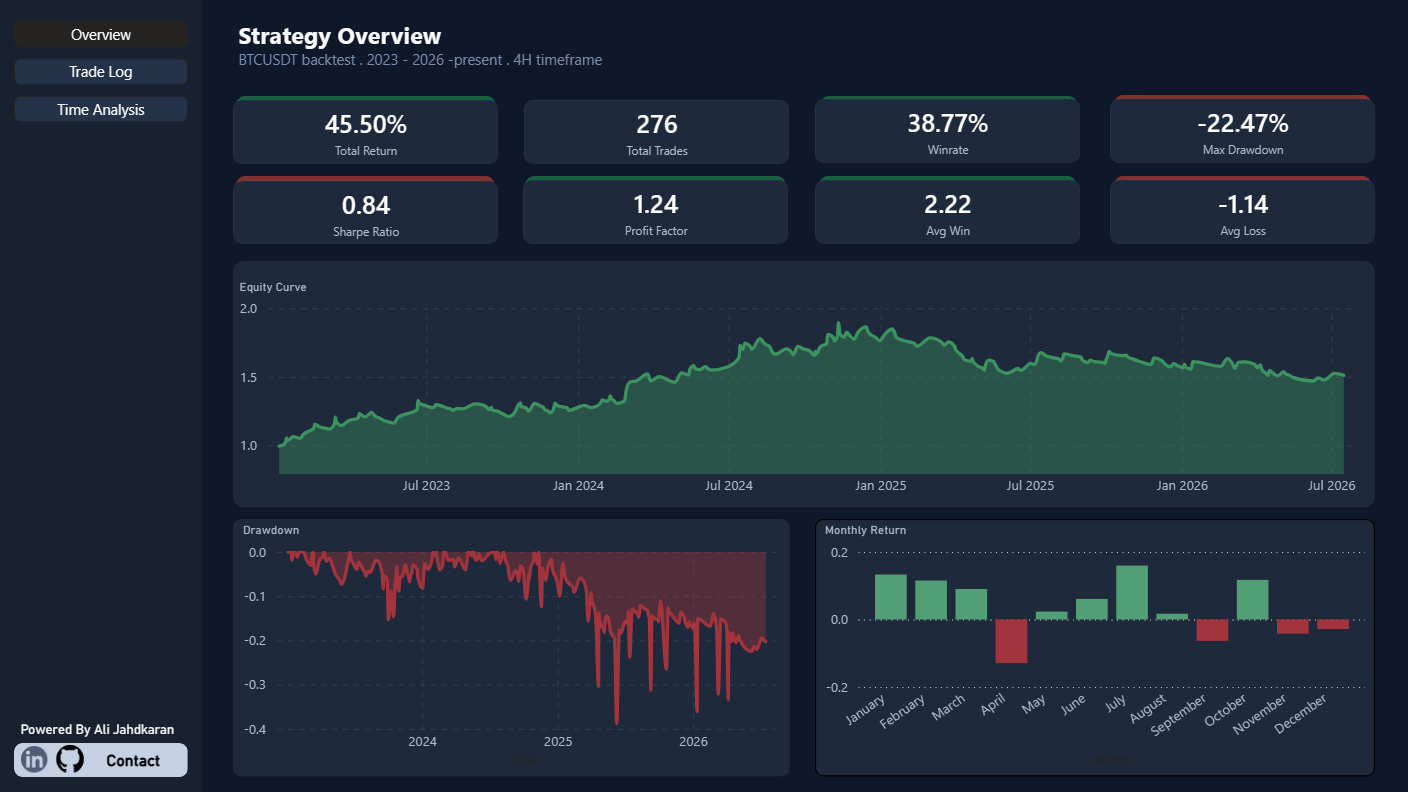

Layout of this report page (visuals, bound fields, positions):
{"tool":"powerbi","page":{"name":"Overview","canvas":[1280,720],"ordinal":0},"visuals":[{"type":"shape","box":[0,0,183.8,719.8],"z":0},{"type":"pageNavigator","box":[12.7,19.1,158.2,92.7],"z":1000},{"type":"textbox","box":[211.9,11.7,365,63],"z":2000},{"type":"cardVisual","title":"Total Profit","fields":{"Data":["summary-kpis.NewPercent"]},"box":[214.5,87.1,239.5,48.9],"z":3000},{"type":"cardVisual","title":"Total Profit","fields":{"Data":["summary-kpis.WinratePercent"]},"box":[745.4,87.2,237.5,49.6],"z":4000},{"type":"cardVisual","title":"Total Profit","fields":{"Data":["summary-kpis.NewPercent"]},"box":[212,90.6,241.7,58.3],"z":5000},{"type":"cardVisual","title":"Total Profit","fields":{"Data":["summary-kpis.WinratePercent"]},"box":[1012.3,86.4,237.8,49.4],"z":6000},{"type":"cardVisual","title":"Total Profit","fields":{"Data":["summary-kpis.WinratePercent"]},"box":[741.3,90.3,241.6,58.9],"z":7000},{"type":"cardVisual","title":"Total Profit","fields":{"Data":["Sum(summary-kpis.total_trades)"]},"box":[476,90.5,241.5,58.5],"z":8000},{"type":"cardVisual","title":"Total Profit","fields":{"Data":["Sum(summary-kpis.sharpe_ratio)"]},"box":[215,160.3,238.9,48.9],"z":9000},{"type":"cardVisual","title":"Total Profit","fields":{"Data":["summary-kpis.DrawDownPercent"]},"box":[1008.8,90.3,241.2,58.8],"z":10000},{"type":"cardVisual","title":"Total Profit","fields":{"Data":["Sum(summary-kpis.profit_factor)"]},"box":[477.6,160.3,240,47.9],"z":11000},{"type":"cardVisual","title":"Total Profit","fields":{"Data":["Sum(summary-kpis.sharpe_ratio)"]},"box":[212.1,164.3,241.5,57.7],"z":12000},{"type":"cardVisual","title":"Total Profit","fields":{"Data":["Sum(summary-kpis.avg_win_pct)"]},"box":[745,160.3,237.9,48.9],"z":13000},{"type":"cardVisual","title":"Total Profit","fields":{"Data":["Sum(summary-kpis.profit_factor)"]},"box":[475.8,163.9,241.8,58.2],"z":14000},{"type":"cardVisual","title":"Total Profit","fields":{"Data":["Sum(summary-kpis.avg_loss_pct)"]},"box":[1012.3,160.3,237.6,48.8],"z":15000},{"type":"cardVisual","title":"Total Profit","fields":{"Data":["Sum(summary-kpis.avg_win_pct)"]},"box":[741.1,163.9,241.8,58.2],"z":16000},{"type":"cardVisual","title":"Total Profit","fields":{"Data":["Sum(summary-kpis.avg_loss_pct)"]},"box":[1008.8,163.9,241.2,58.2],"z":17000},{"type":"areaChart","title":"Equity Curve","fields":{"Y":["Max(backtested.cumulative_equity)"],"Category":["backtested.exit_time.Variation.Date Hierarchy.Year","backtested.exit_time.Variation.Date Hierarchy.Quarter","backtested.exit_time.Variation.Date Hierarchy.Month","backtested.exit_time.Variation.Date Hierarchy.Day"]},"box":[212.2,237.6,1037.9,223.6],"z":18000},{"type":"areaChart","title":"Drawdown","fields":{"Y":["Sum(backtested.drawdown_pct)"],"Category":["backtested.exit_time.Variation.Date Hierarchy.Year","backtested.exit_time.Variation.Date Hierarchy.Quarter","backtested.exit_time.Variation.Date Hierarchy.Month","backtested.exit_time.Variation.Date Hierarchy.Day"]},"box":[211.6,472.2,506.2,233.8],"z":19000},{"type":"clusteredColumnChart","title":"Monthly Return","fields":{"Y":["Sum(backtested.pnl_pct)"],"Category":["backtested.exit_time.Variation.Date Hierarchy.Month","backtested.exit_time.Variation.Date Hierarchy.Day"]},"box":[741,472.2,509.4,233.8],"z":20000},{"type":"shape","box":[12.9,675.2,158.1,31],"z":21000},{"type":"image","box":[19.5,677.6,23.8,26.2],"z":22000},{"type":"image","box":[48.6,677.6,30.5,24.8],"z":23000},{"type":"textbox","box":[91.9,676.9,65.6,30.6],"z":24000},{"type":"textbox","box":[13.3,648.3,163.3,26.7],"z":25000}]}

Visuals, with their boxes in screenshot pixels (x1, y1, x2, y2), scaled from the page's 1280x720 canvas onto the 1408x792 screenshot:
shape: locate(0, 0, 202, 791)
pageNavigator: locate(14, 21, 188, 123)
textbox: locate(233, 13, 635, 82)
"Total Profit" cardVisual: locate(236, 96, 499, 150)
"Total Profit" cardVisual: locate(820, 96, 1081, 150)
"Total Profit" cardVisual: locate(233, 100, 499, 164)
"Total Profit" cardVisual: locate(1114, 95, 1375, 149)
"Total Profit" cardVisual: locate(815, 99, 1081, 164)
"Total Profit" cardVisual: locate(524, 100, 789, 164)
"Total Profit" cardVisual: locate(237, 176, 499, 230)
"Total Profit" cardVisual: locate(1110, 99, 1375, 164)
"Total Profit" cardVisual: locate(525, 176, 789, 229)
"Total Profit" cardVisual: locate(233, 181, 499, 244)
"Total Profit" cardVisual: locate(820, 176, 1081, 230)
"Total Profit" cardVisual: locate(523, 180, 789, 244)
"Total Profit" cardVisual: locate(1114, 176, 1375, 230)
"Total Profit" cardVisual: locate(815, 180, 1081, 244)
"Total Profit" cardVisual: locate(1110, 180, 1375, 244)
"Equity Curve" areaChart: locate(233, 261, 1375, 507)
"Drawdown" areaChart: locate(233, 519, 790, 777)
"Monthly Return" clusteredColumnChart: locate(815, 519, 1375, 777)
shape: locate(14, 743, 188, 777)
image: locate(21, 745, 48, 774)
image: locate(53, 745, 87, 773)
textbox: locate(101, 745, 173, 778)
textbox: locate(15, 713, 194, 743)
